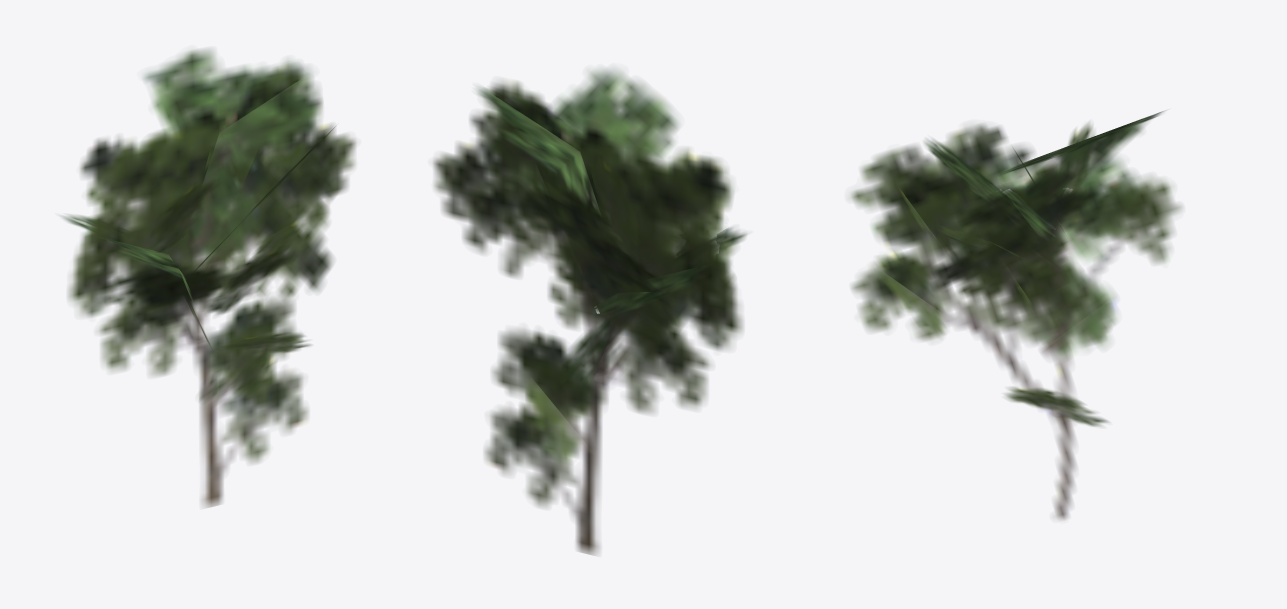
The model's file is wld_leaf.glb.
The picture shows the model from 3 angles, left to right: view 1: azimuth 30°, elevation 25°; view 2: azimuth 150°, elevation 25°; view 3: azimuth 270°, elevation 25°; orthographic projection. The views are drawn at different scales.
Parts seen in each view (by area): view 1: oak_3; view 2: oak_3; view 3: oak_3.
Boxes of the visible parts, x1,y1,x2,y2 form: oak_3: (61, 49, 356, 507); oak_3: (433, 69, 746, 555); oak_3: (850, 110, 1181, 520).
Size of the model in its own units: 2033 by 2879 by 2569.
1 material, 1 textured.
